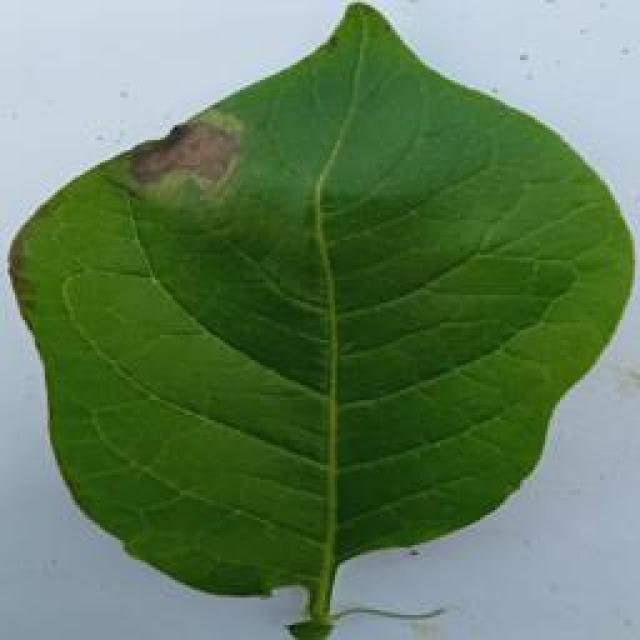Potato_Late_Blight: (10, 1, 625, 628)
